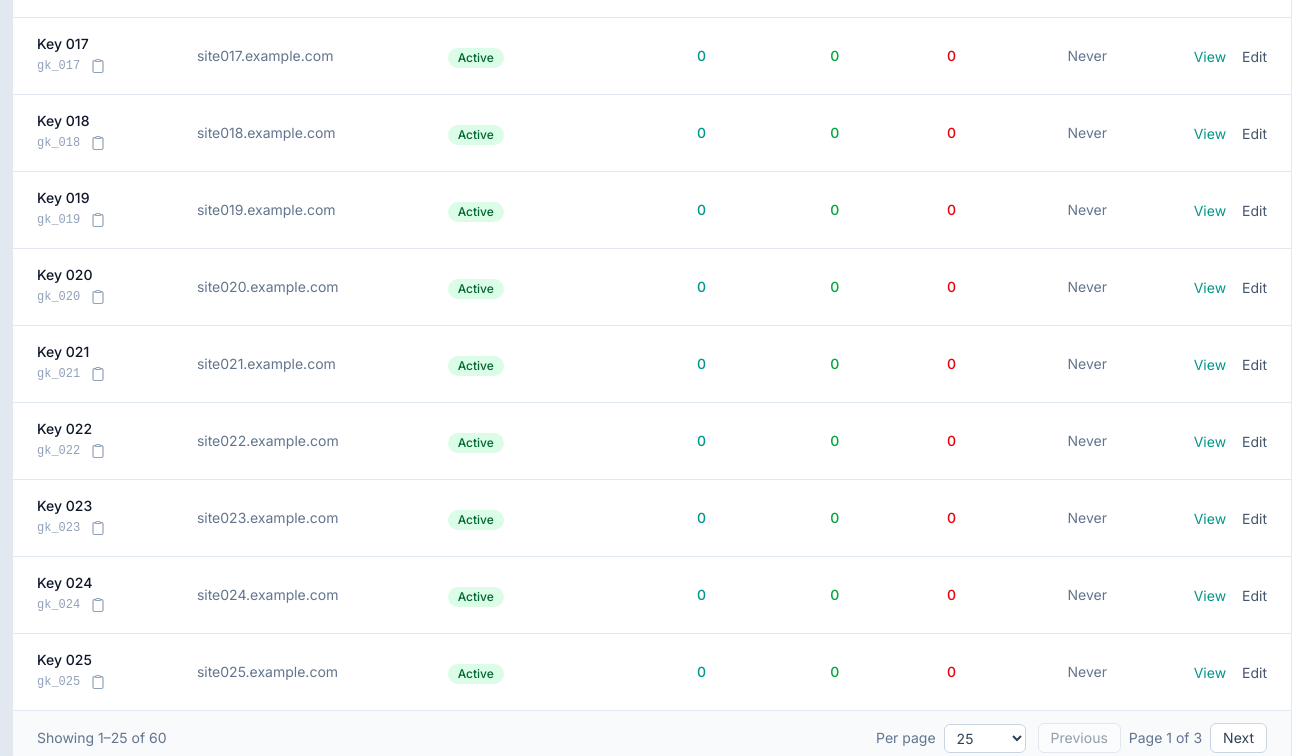
it: ApiKeysView › navigates between pages
(page scrolled)
Step 1. Click the button with aria-label "Next page" → x=1239, y=738, box [1210, 723, 1267, 753]
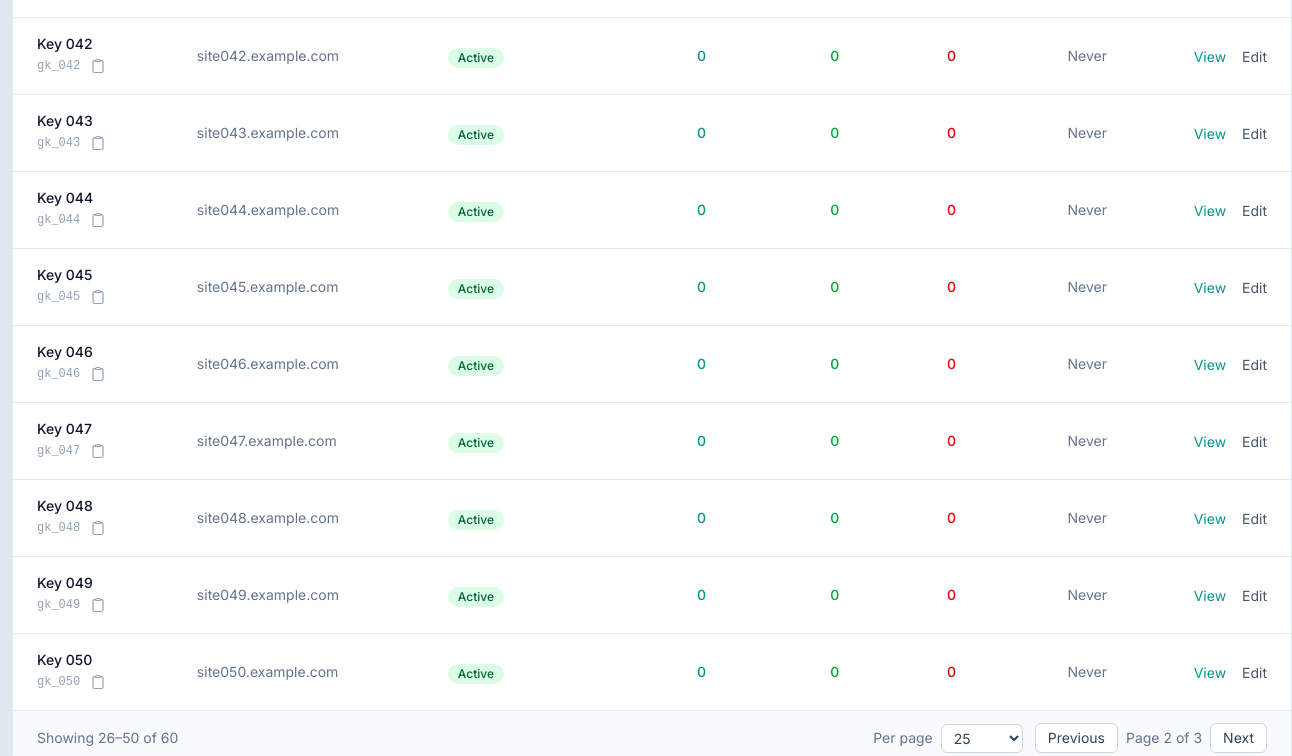
Check: the text "Showing 26–50 of 60" is shown, box [37, 728, 178, 748]
Step 2. Click the button with aria-label "Previous page" → x=1076, y=738, box [1035, 723, 1118, 753]
(page scrolled)
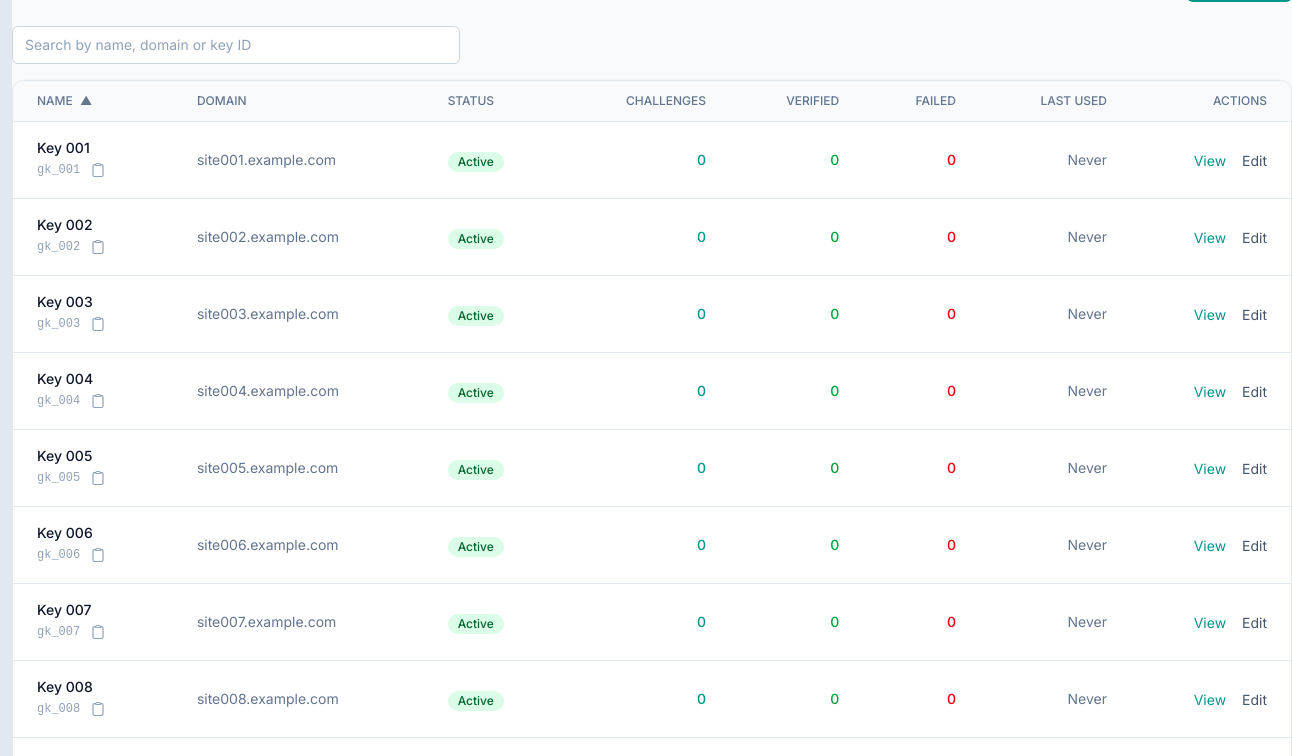
Check: the row that starts with "Key 001" is shown, box [37, 139, 90, 156]
